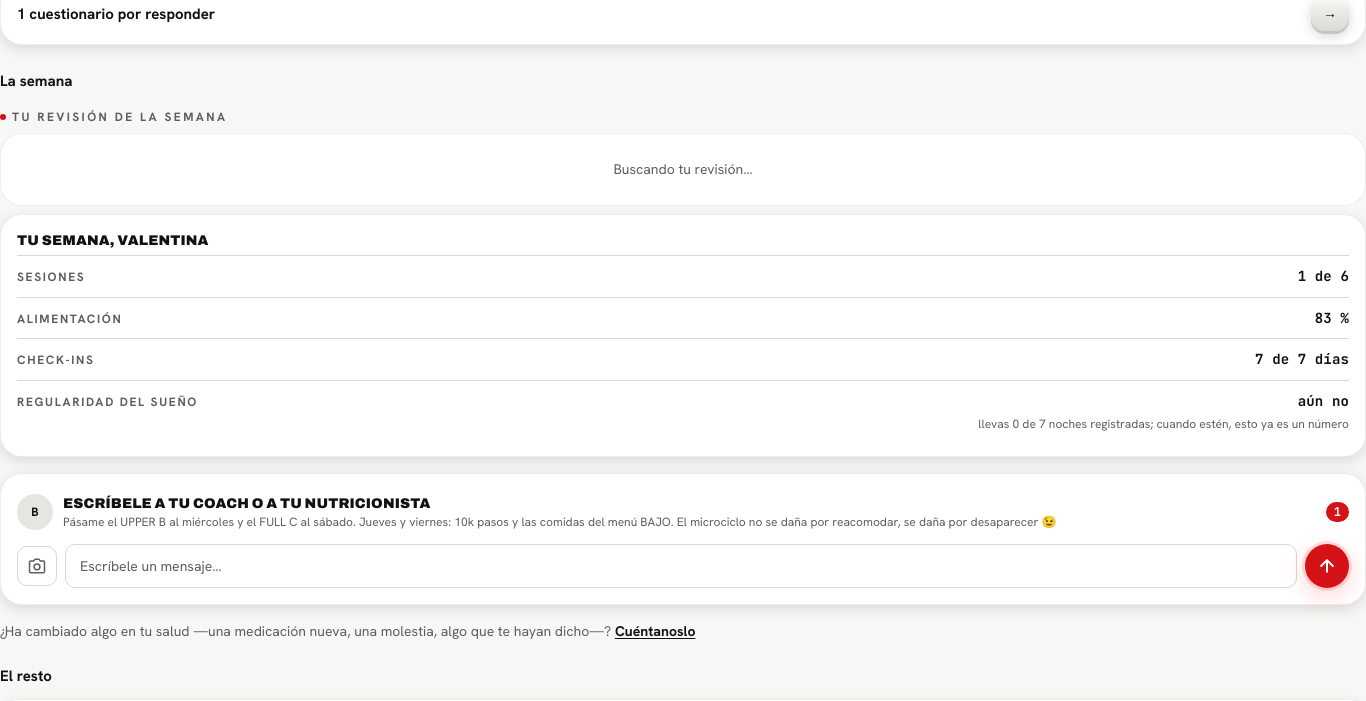
Hoy del asesorado — lo que se conserva › salud: con ficha, «Cuéntanoslo» deja volver a contestar el cribado
(page scrolled)
Expected: the text "Antes de seguir, tu salud" is not shown
Click the button "Cuéntanoslo".
click(655, 631)  # box top-left (615, 621), bottom-right (695, 641)
(page scrolled)
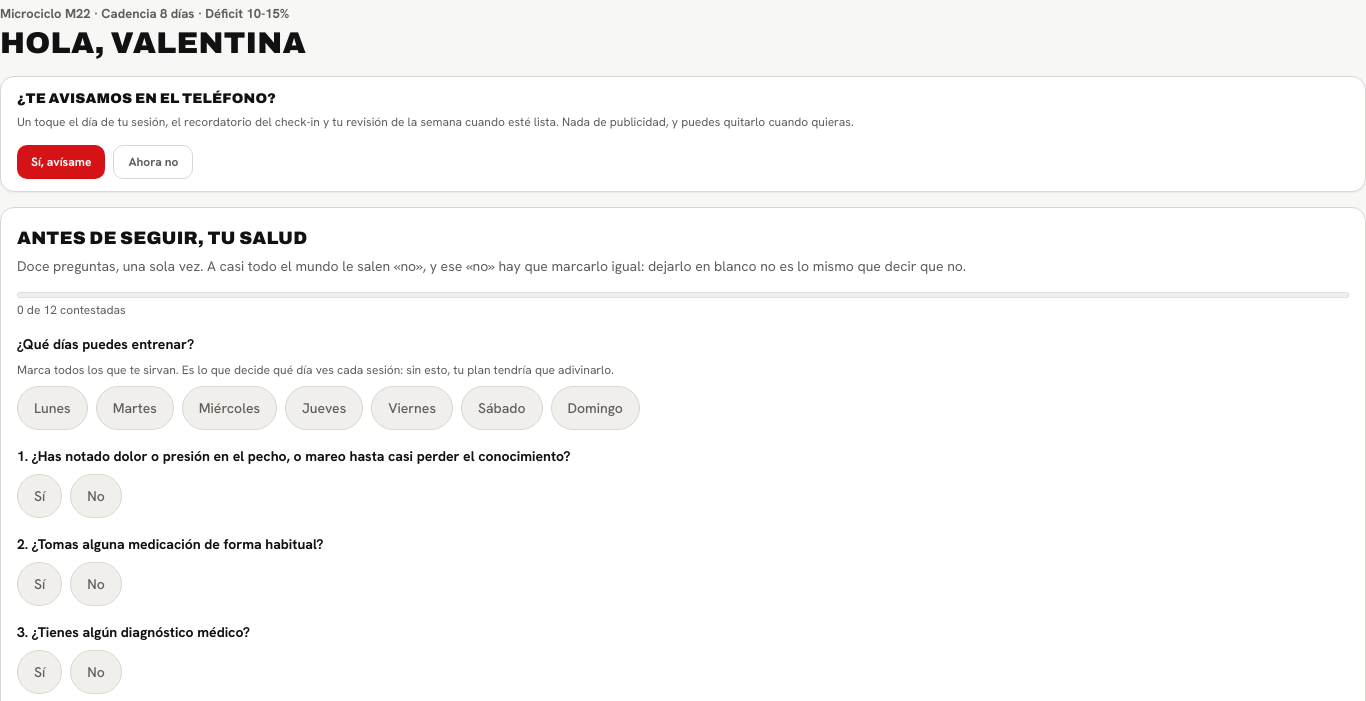
Result: the heading "Antes de seguir, tu salud" is shown at top-left (17, 228), bottom-right (307, 248)
